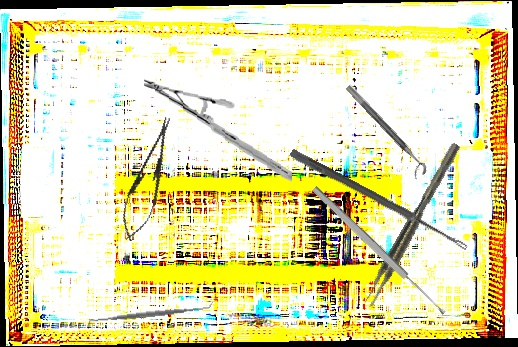Fixation Ring: (338, 84, 430, 181)
Needle Holder: (137, 76, 299, 183), (114, 113, 183, 245)
Spatula Surgical: (86, 300, 215, 328)
Surgical Spoon: (288, 148, 470, 252), (310, 184, 448, 318)
Tissue Forceps: (360, 142, 466, 309)
